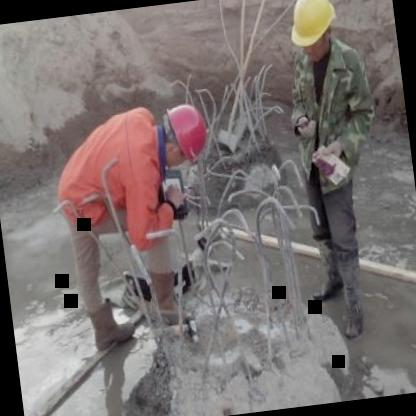helmet: (158, 96, 218, 172), (280, 0, 345, 70)
